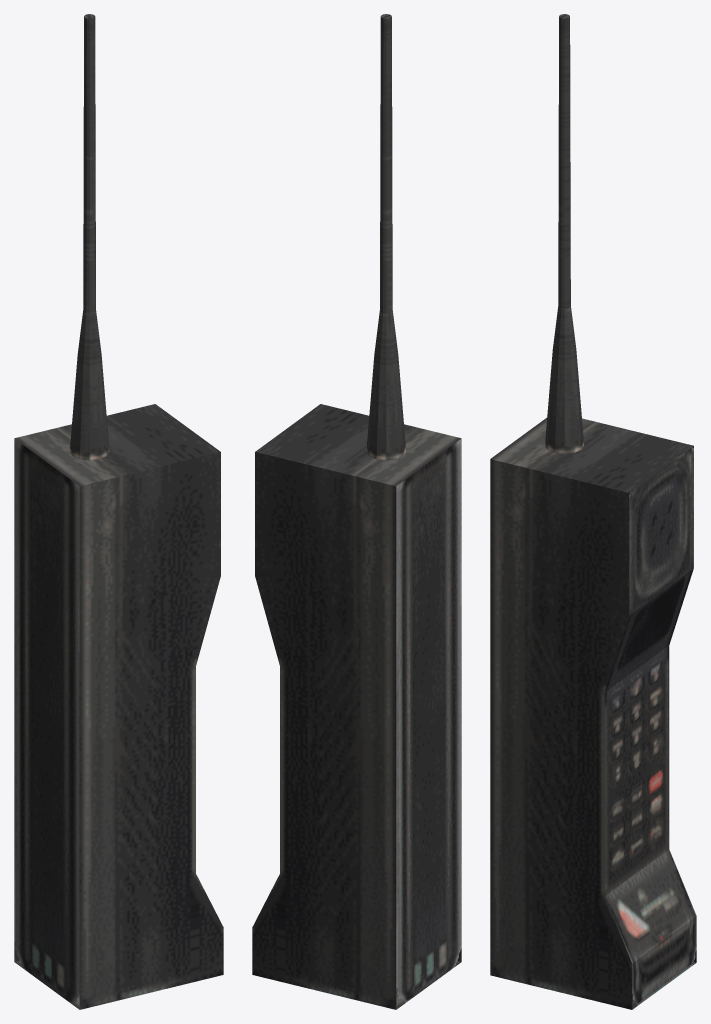
The model's file is Рация.fbx.
3 renders of one model, left to right at view 1: azimuth 30°, elevation 25°; view 2: azimuth 150°, elevation 25°; view 3: azimuth 330°, elevation 25°, orthographic.
Parts seen in each view (by area): view 1: Brick Phone; view 2: Brick Phone; view 3: Brick Phone.
Boxes of the visible parts, x1,y1,x2,y2 form: Brick Phone: [14, 14, 223, 1009]; Brick Phone: [252, 14, 461, 1009]; Brick Phone: [490, 14, 696, 1009].
Size of the model in its own units: 6.85 by 43.61 by 5.4.
Materials: 1 (1 with a texture image).
